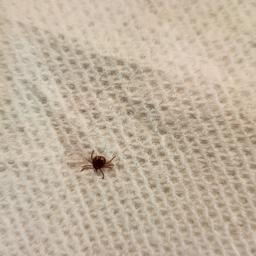Rhipicephalus sanguineus: (80, 150, 116, 179)
